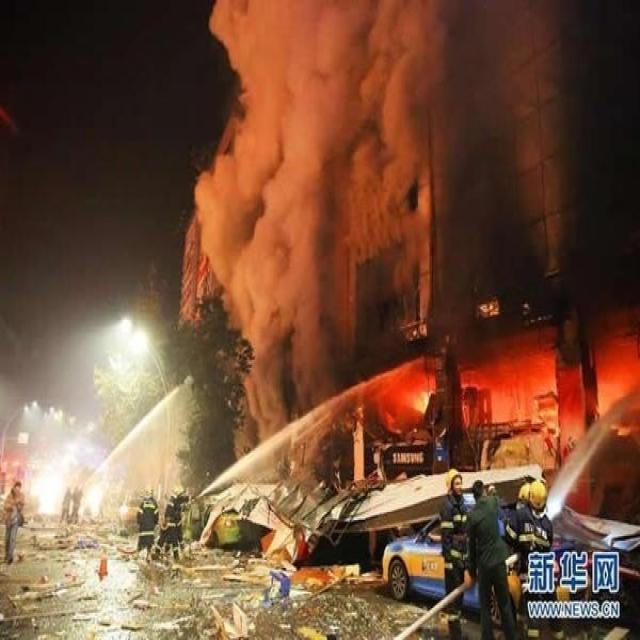Smoke: (194, 2, 449, 460)
